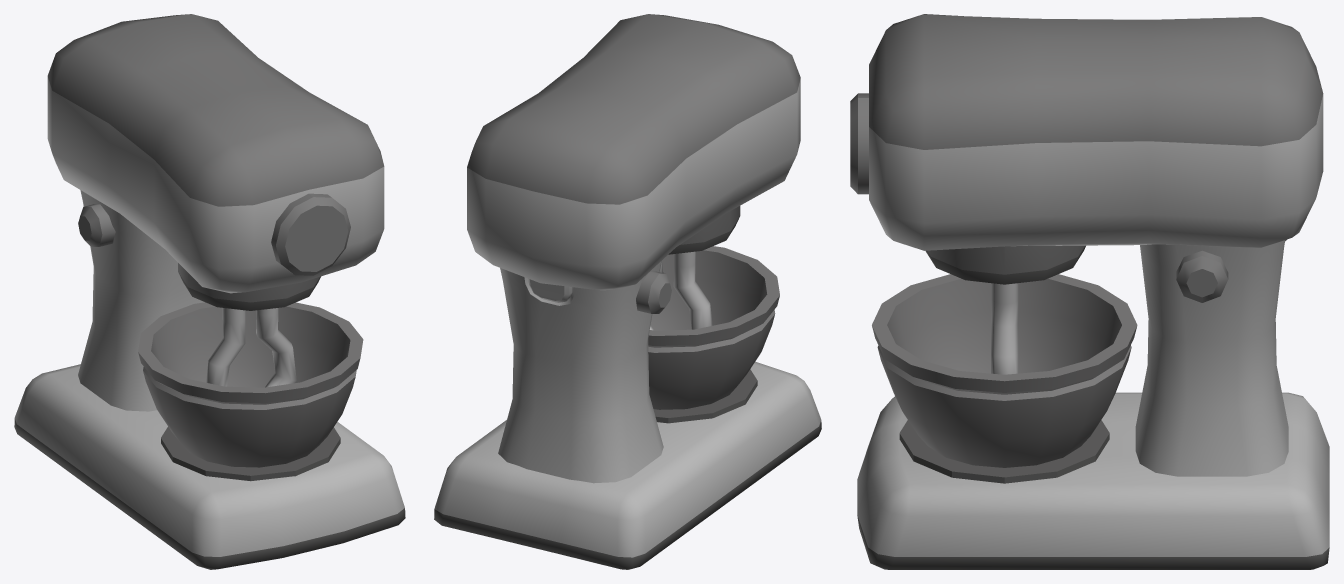
File: Mixer_01.fbx
3 renders of one model, left to right at view 1: azimuth 30°, elevation 25°; view 2: azimuth 150°, elevation 25°; view 3: azimuth 270°, elevation 25°, orthographic. The views are drawn at different scales.
Visible parts, largest first — view 1: Mixer_01; view 2: Mixer_01; view 3: Mixer_01.
Part boxes in pixels (x1,y1,x2,y2): Mixer_01: (14,14,405,569); Mixer_01: (434,14,821,569); Mixer_01: (850,14,1329,569).
Bounding box in the file's own units: 36.73 × 67.92 × 61.87.
